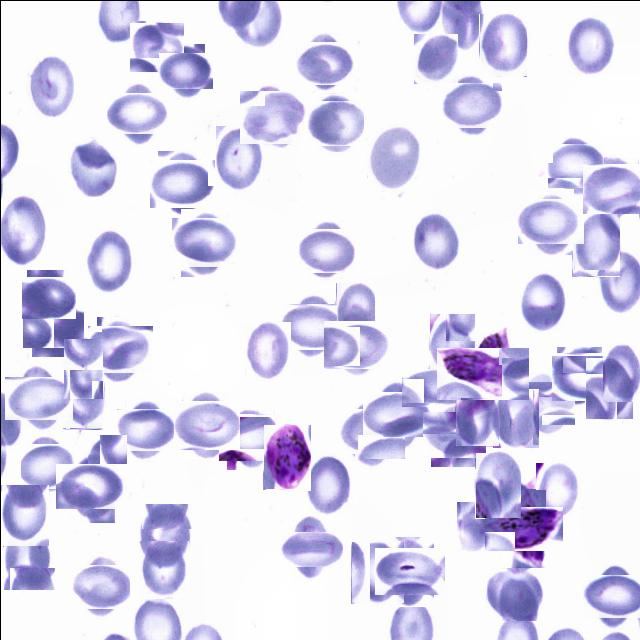difficult: (446, 336, 518, 408), (492, 496, 554, 558), (262, 424, 310, 489)
red blood cell: (242, 87, 302, 147), (176, 212, 235, 272), (62, 456, 121, 516), (366, 124, 419, 190), (2, 524, 54, 590), (379, 542, 438, 600), (137, 503, 191, 566), (342, 404, 400, 462), (153, 154, 210, 212), (177, 396, 234, 454), (350, 541, 403, 603), (328, 314, 384, 372), (25, 53, 73, 120), (9, 370, 66, 426), (411, 358, 466, 416), (222, 409, 278, 465), (522, 193, 578, 249), (368, 386, 424, 442), (584, 160, 640, 216), (85, 228, 133, 293), (304, 452, 354, 514), (92, 321, 148, 376), (474, 452, 520, 518), (572, 213, 620, 276), (478, 13, 526, 76), (486, 566, 542, 620), (426, 406, 480, 462), (428, 313, 474, 378), (0, 484, 48, 546), (584, 357, 632, 419), (586, 569, 640, 624), (215, 125, 262, 188), (67, 137, 117, 196), (410, 211, 460, 270), (284, 298, 338, 352), (444, 78, 498, 132), (554, 349, 608, 403), (138, 540, 188, 598), (566, 16, 615, 74), (491, 388, 538, 448), (26, 298, 78, 352), (308, 96, 361, 148), (520, 272, 567, 330), (518, 377, 570, 429), (130, 21, 182, 73), (299, 36, 350, 88), (111, 86, 162, 138), (74, 560, 126, 611), (244, 321, 290, 378), (61, 366, 103, 428), (120, 404, 171, 455), (300, 224, 352, 274), (550, 140, 600, 190), (22, 440, 72, 490), (284, 524, 334, 574), (335, 282, 374, 346), (22, 272, 72, 321), (62, 338, 102, 399), (535, 461, 579, 516), (454, 391, 498, 446), (86, 434, 126, 494), (601, 342, 640, 402), (412, 33, 457, 84), (456, 501, 498, 552), (162, 47, 208, 93)
